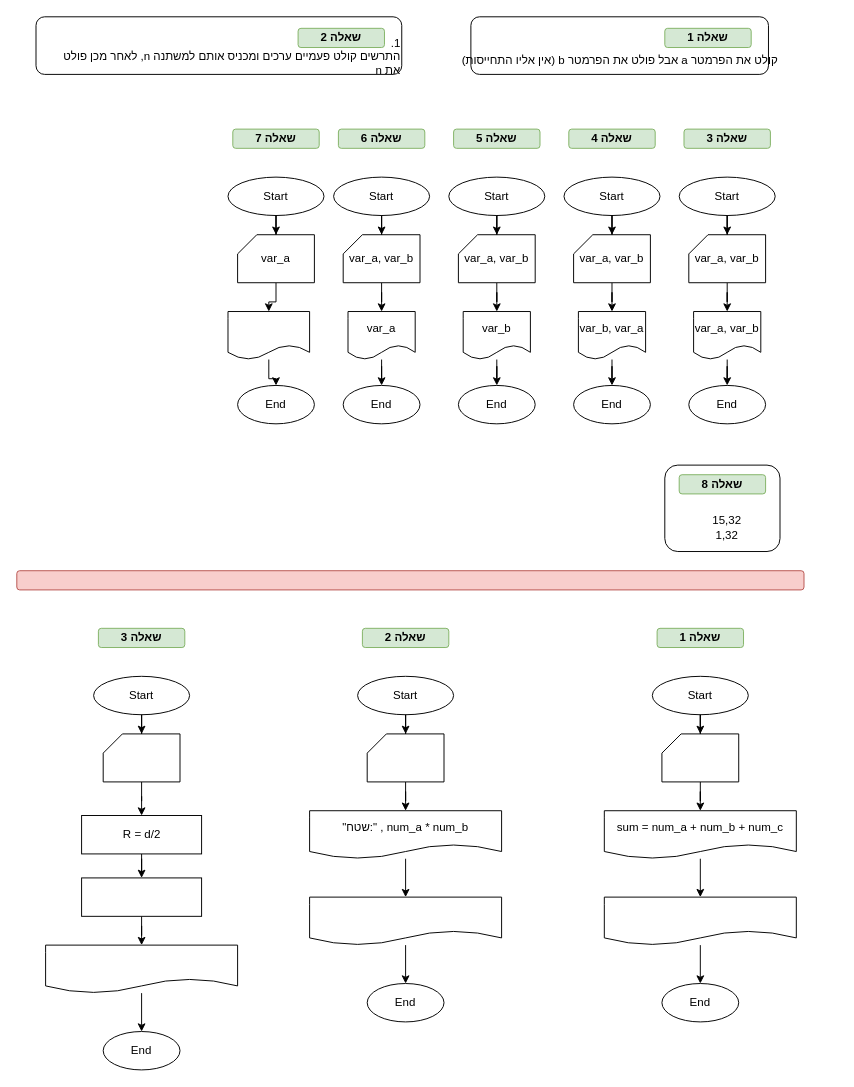
Image size: 854x1087. Some labels were removed from this diagram. The shapes that lost their labels are listed below. From the top down, each one's centre as x and y in pixels, then its label:
(x=268, y=335): var_a, var_a, var_a
(x=410, y=580): עמוד 15
(x=141, y=757): d, h
(x=405, y=757): num_a, num_b
(x=700, y=757): num_a, num_b, num_c
(x=141, y=896): A = 3.14 * R * R
(x=405, y=920): "היקף: " (num_a+num_b)*2
(x=699, y=920): average = (num_a + num_b + num_c) / 3
(x=141, y=968): "קיבולת:" , A * h
